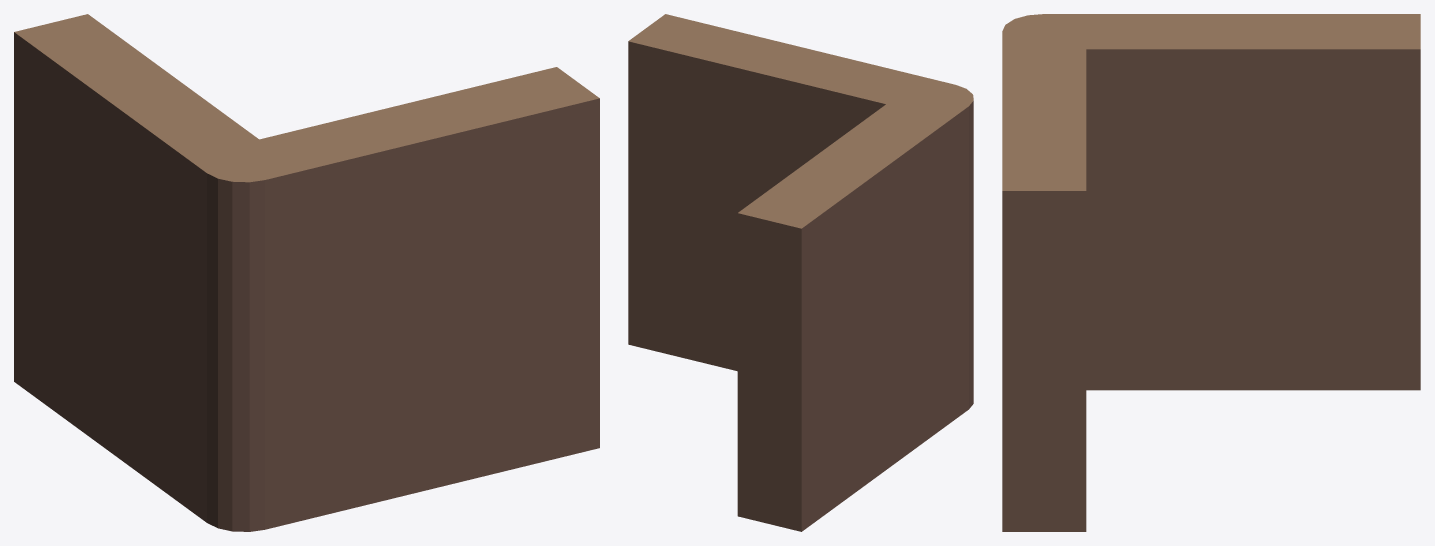
The model's file is factory_Wall_corner_1.fbx.
3 views of the same model, side by side, from view 1: azimuth 30°, elevation 25°; view 2: azimuth 150°, elevation 25°; view 3: azimuth 270°, elevation 25° (orthographic). The views are drawn at different scales.
Visible parts, largest first — view 1: factory_Wall_corner_1; view 2: factory_Wall_corner_1; view 3: factory_Wall_corner_1.
Part boxes in pixels (x1,y1,x2,y2): factory_Wall_corner_1: (14, 14, 599, 531); factory_Wall_corner_1: (628, 14, 973, 531); factory_Wall_corner_1: (1002, 14, 1420, 531).
Bounding box in the file's own units: 250 × 225 × 250.
